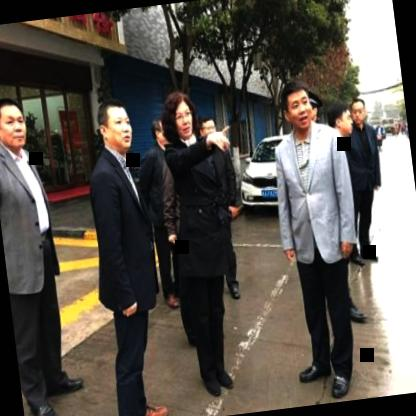head: (93, 92, 137, 154), (276, 78, 318, 134), (161, 89, 199, 144), (0, 91, 31, 151), (324, 100, 354, 148), (150, 110, 172, 155), (348, 92, 372, 130), (198, 112, 219, 146)
